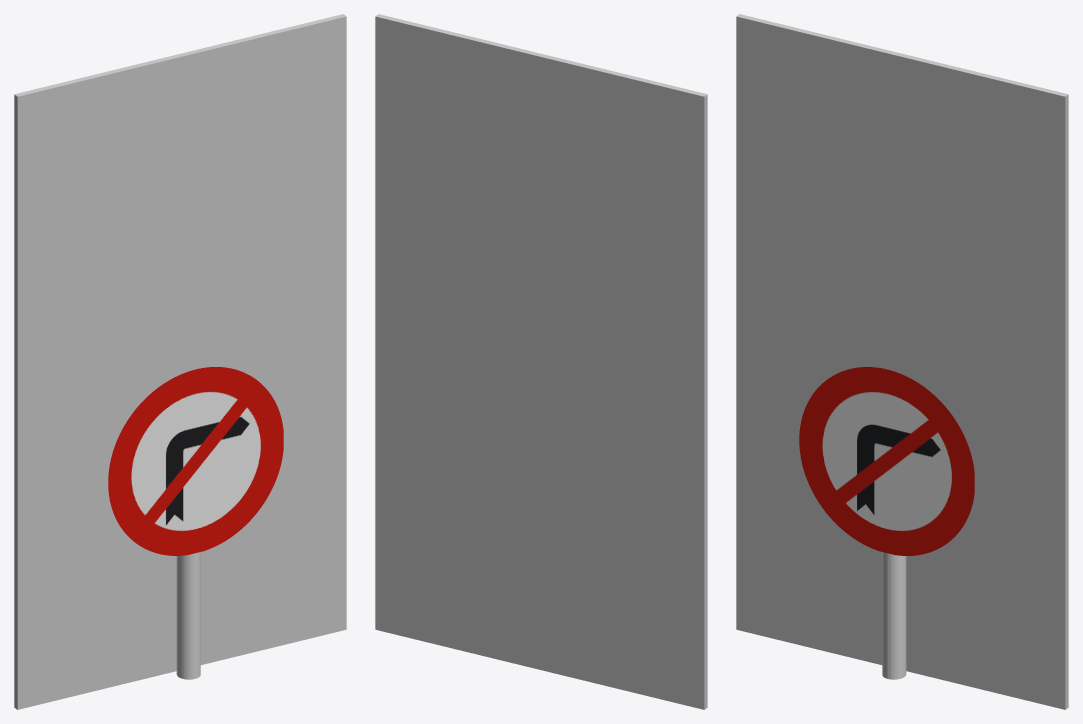
The model's file is roadsing_turnban_v2.dae.
3 renders of one model, left to right at view 1: azimuth 30°, elevation 25°; view 2: azimuth 150°, elevation 25°; view 3: azimuth 330°, elevation 25°, orthographic.
Visible parts, largest first — view 1: Cube, Cylinder; view 2: Cube; view 3: Cube, Cylinder.
Part boxes in pixels (x1,y1,x2,y2): Cube: [14, 14, 346, 709]; Cylinder: [108, 367, 283, 679]; Cube: [375, 14, 707, 709]; Cube: [736, 14, 1068, 709]; Cylinder: [799, 367, 974, 679].
Size of the model in its own units: 1.12 by 0.1013 by 2.
Materials: 3 (1 with a texture image).
